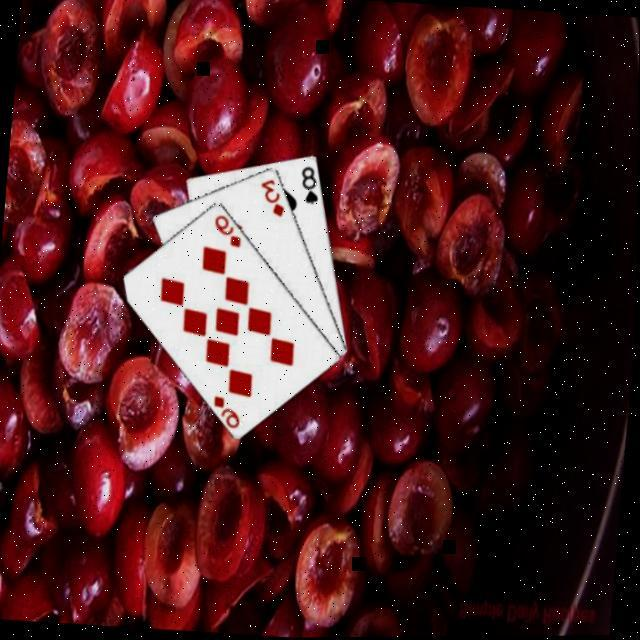3D: (253, 177, 290, 221)
8S: (294, 164, 322, 209)
9D: (208, 394, 244, 432), (210, 213, 245, 251)
